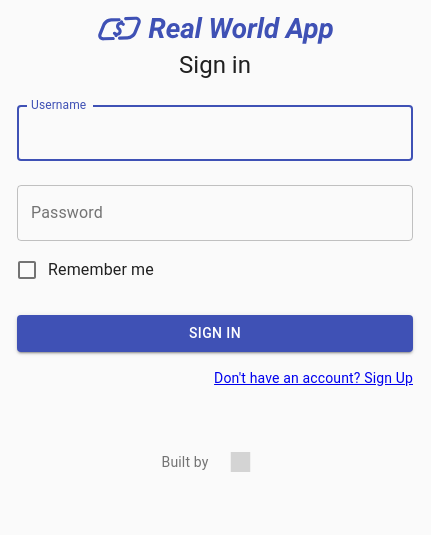
Test: Регистрация пользователя и вход в систему › should display login errors
This screenshot has width=431, height=535.
Type "User" into the element with test id "signin-username". click: coordinates (215, 133)
box: [17,105,413,161]
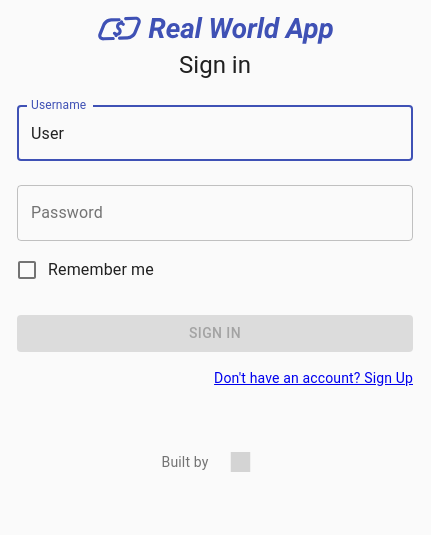
Clear the field labelled "Username". click: coordinates (215, 133)
box: [17,105,413,161]
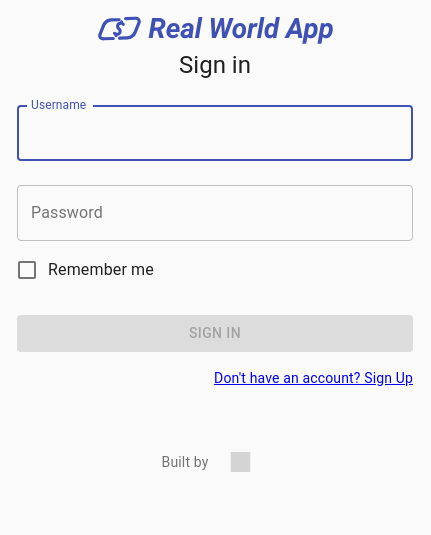
Leave the field labelled "Username", box [17,105,413,161]
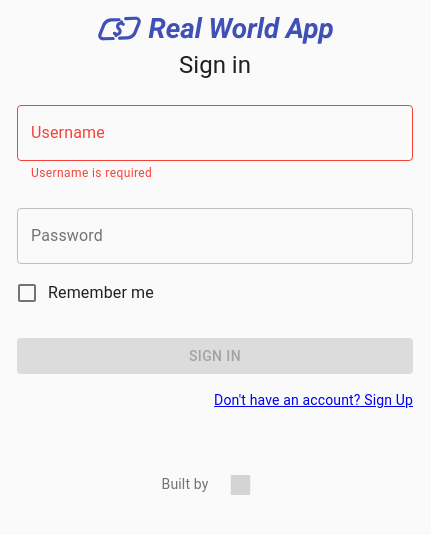
expect the text with id "username-helper-text" reads "Username is required": met, box [31,166,152,180]
Type "abc" into the element with test id "signin-password". click: coordinates (215, 236)
box: [17,208,413,264]
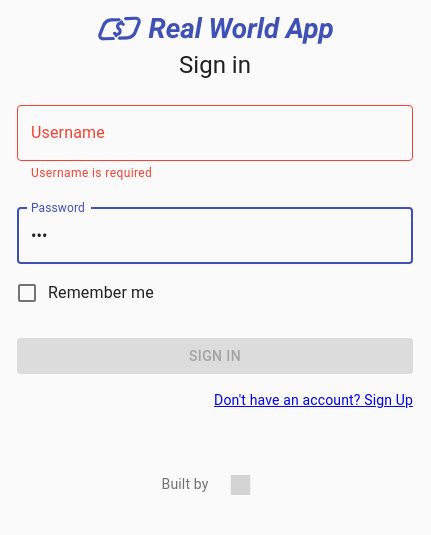
Leave the password field labelled "Password", box [17,208,413,264]
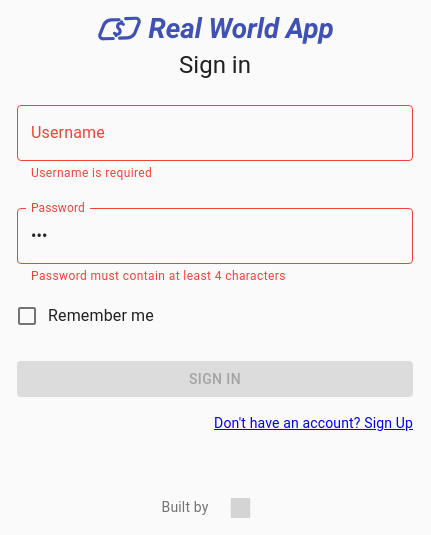
expect the button with test id "signin-submit" is disabled: met, box [17,361,413,398]
expect the text "Password must contain at least 4 characters" is shown: met, box [31,269,286,283]
